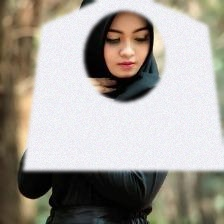Mukena: (23, 0, 224, 170)
